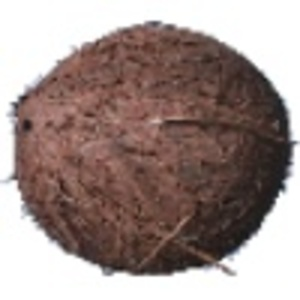coco: (1, 22, 298, 277)
